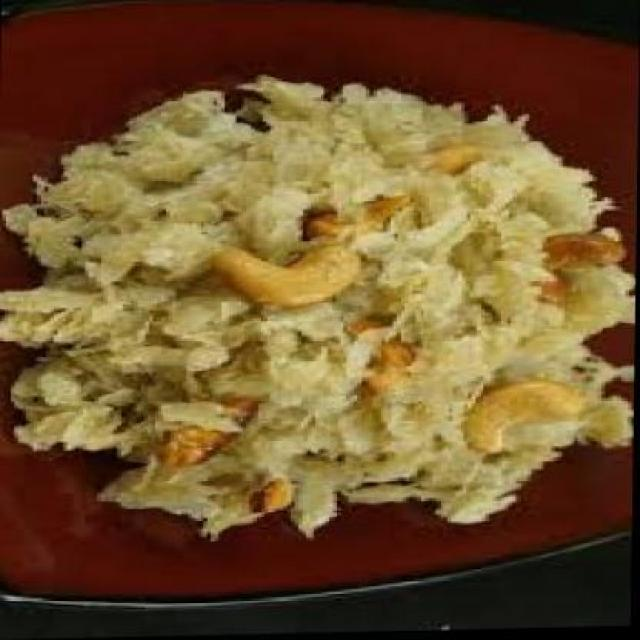poha: (0, 70, 638, 546)
